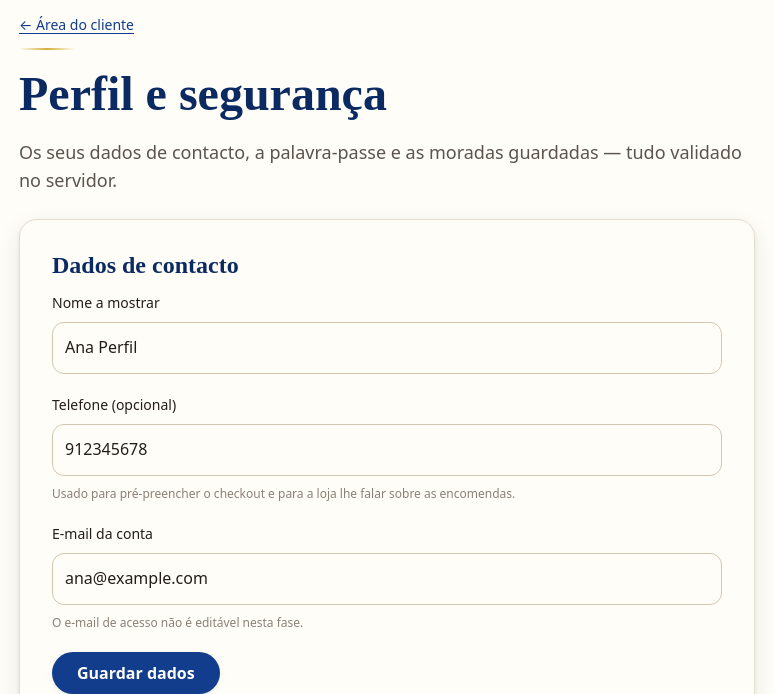
Test: ProfilePage › guarda os dados de contacto e a sessão passa a reflectir o servidor
Step 1. Replace the text in the field labelled "Nome a mostrar" with "Ana Actualizada" → (387, 348), box [52,322,722,374]
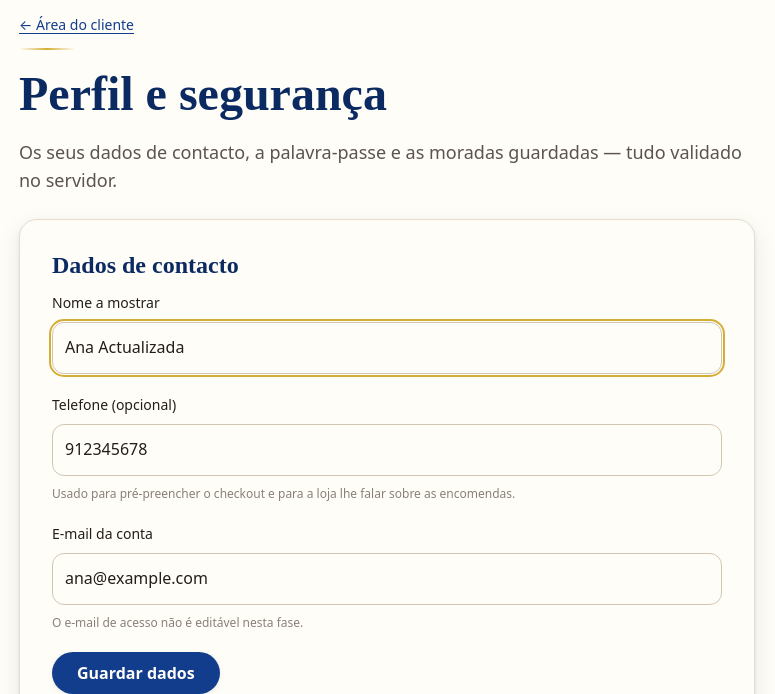
Step 2. Click the button "Guardar dados" → (136, 673), box [52,652,220,693]
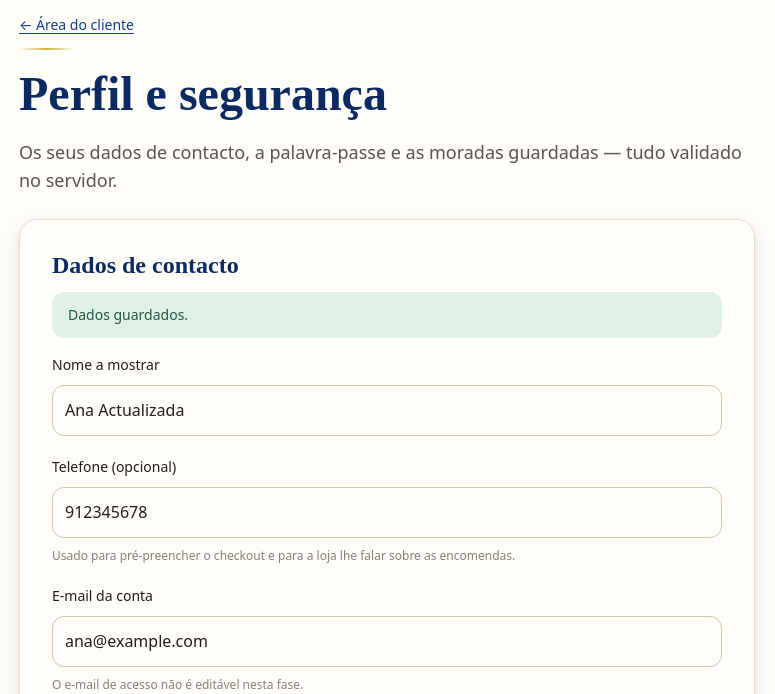
expect the message reads "Dados guardados.": met, box [68,305,188,324]
